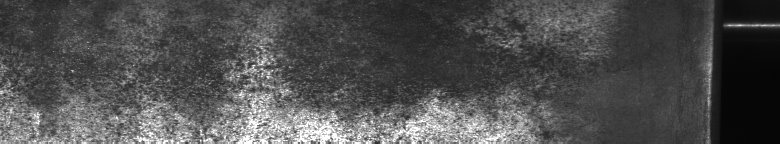kb: (4, 4, 544, 136)
